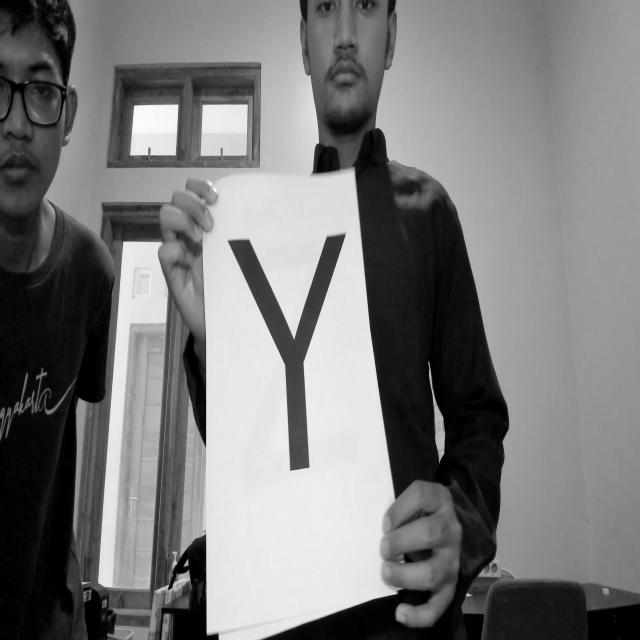y: (222, 219, 354, 490)
